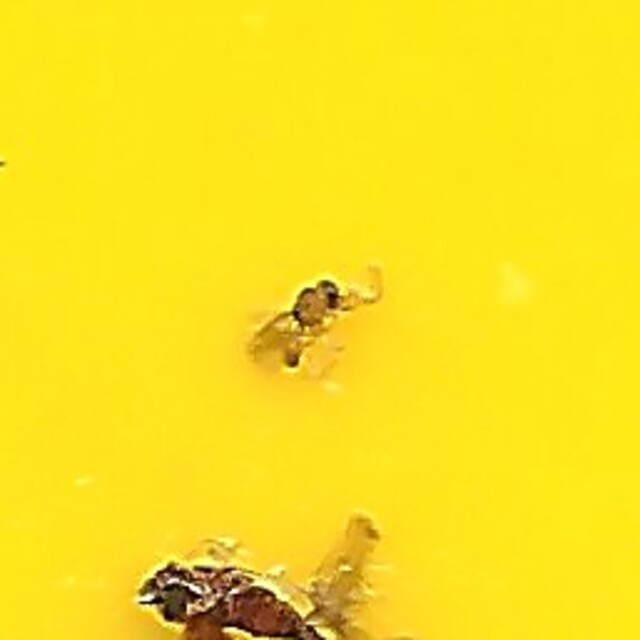Brachycera: (249, 257, 391, 383)
